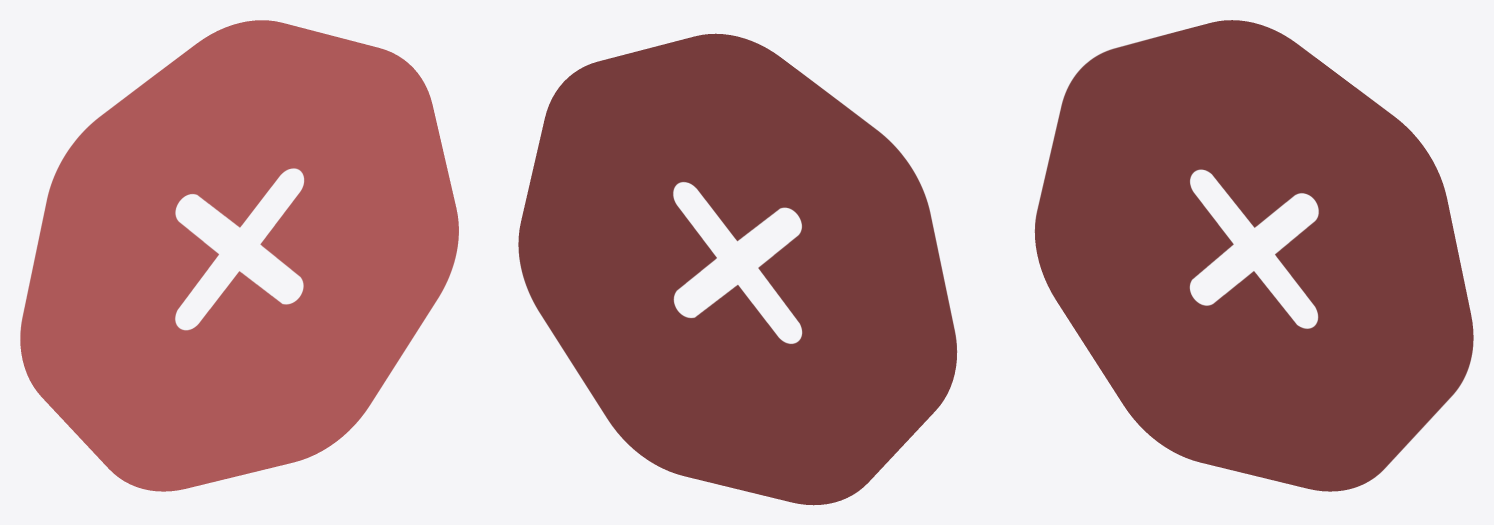
Rendered from chetti_cross.glb.
3 views of the same model, side by side, from view 1: azimuth 30°, elevation 25°; view 2: azimuth 150°, elevation 25°; view 3: azimuth 330°, elevation 25° (orthographic).
Visible parts, largest first — view 1: C_cross; view 2: C_cross; view 3: C_cross.
Part boxes in pixels (box(x1,y1,x2,y2)): C_cross: box(20, 20, 458, 491); C_cross: box(518, 33, 957, 505); C_cross: box(1034, 20, 1473, 491).
Size of the model in its own units: 0.1128 by 0.1113 by 0.00954.
3 materials, 2 textured.
